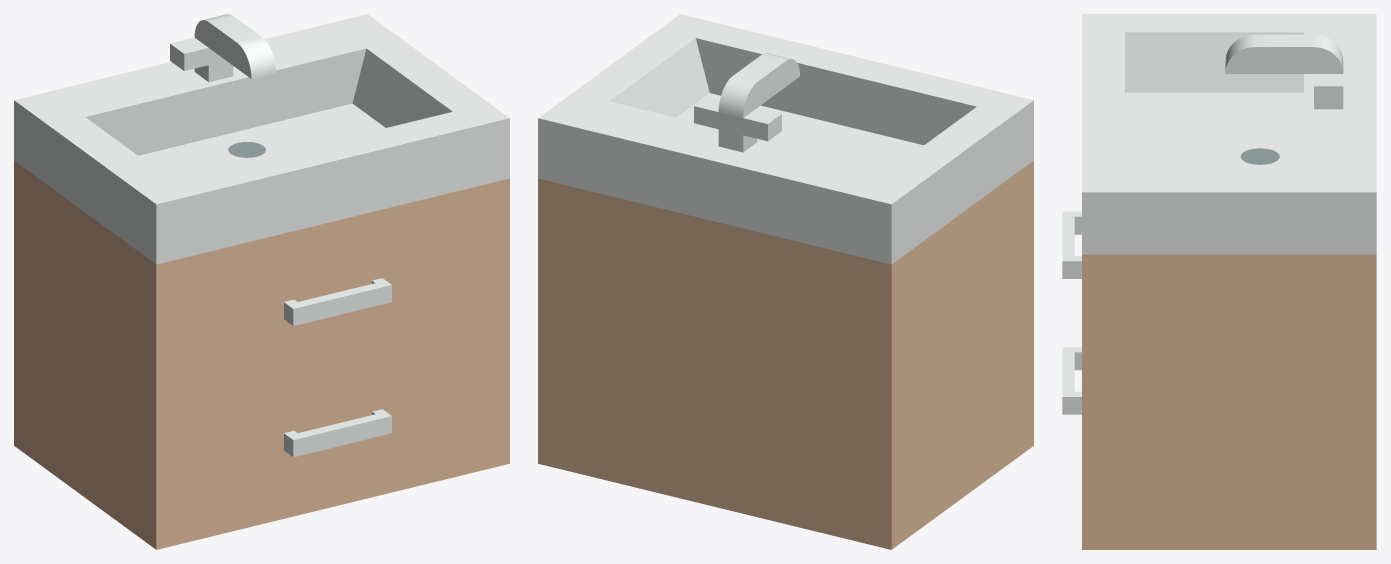
The model's file is bathroomCabinetDrawer-col.glb.
3 renders of one model, left to right at view 1: azimuth 30°, elevation 25°; view 2: azimuth 150°, elevation 25°; view 3: azimuth 270°, elevation 25°, orthographic. The views are drawn at different scales.
Parts seen in each view (by area): view 1: bathroomCabinetDrawer-col; view 2: bathroomCabinetDrawer-col; view 3: bathroomCabinetDrawer-col.
Part boxes in pixels (x1,y1,x2,y2): bathroomCabinetDrawer-col: (14,14,509,549); bathroomCabinetDrawer-col: (538,14,1033,549); bathroomCabinetDrawer-col: (1062,14,1376,549).
Bounding box in the file's own units: 0.43 × 0.4718 × 0.32.
